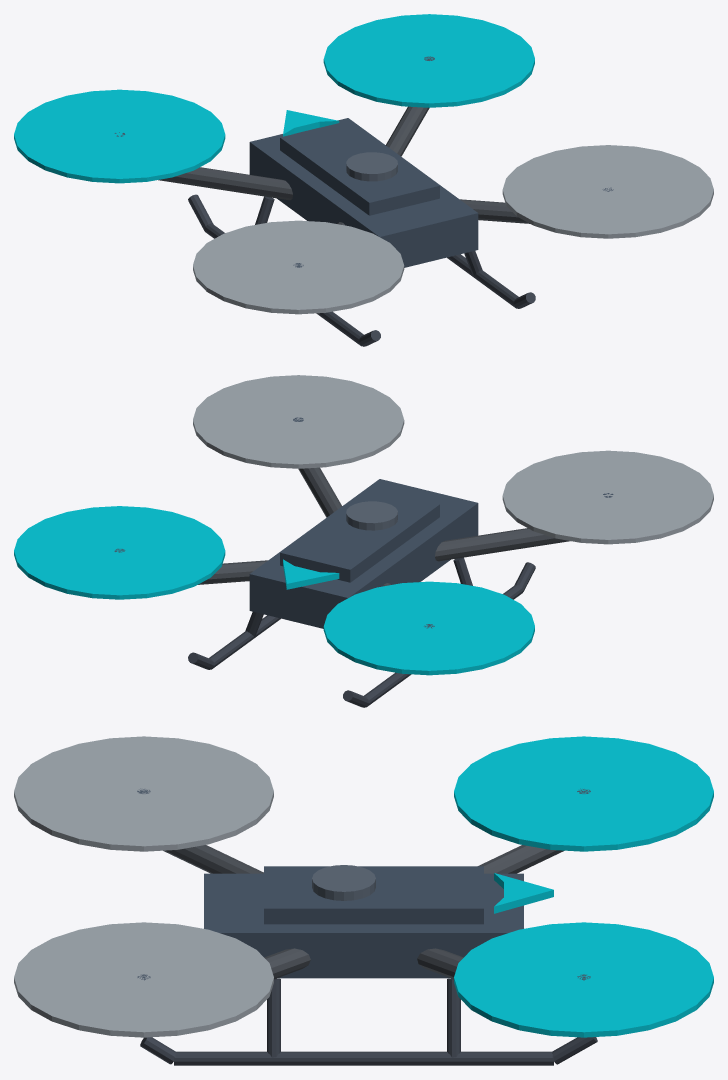
Rendered from drone.glb.
The picture shows the model from 3 angles, top to bottom: view 1: azimuth 30°, elevation 25°; view 2: azimuth 150°, elevation 25°; view 3: azimuth 270°, elevation 25°; orthographic projection. The views are drawn at different scales.
Visible parts, largest first — view 1: drone; view 2: drone; view 3: drone.
Part boxes in pixels (box(x1,y1,x2,y2)): drone: box(14, 14, 713, 346); drone: box(14, 375, 713, 707); drone: box(14, 736, 713, 1065).
Bounding box in the file's own units: 0.7 × 0.1545 × 0.7.
